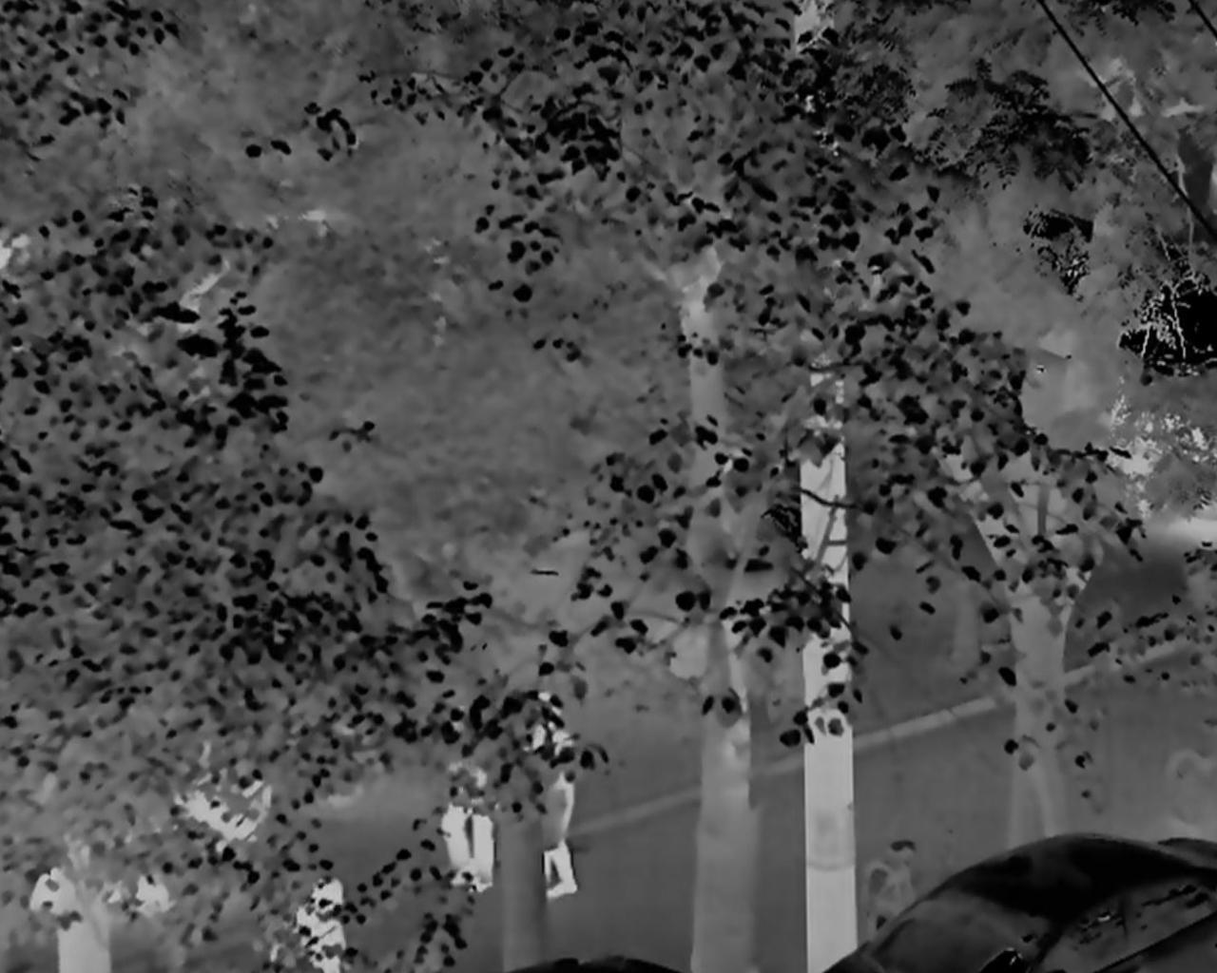person: (524, 688, 581, 898), (437, 709, 497, 898)
